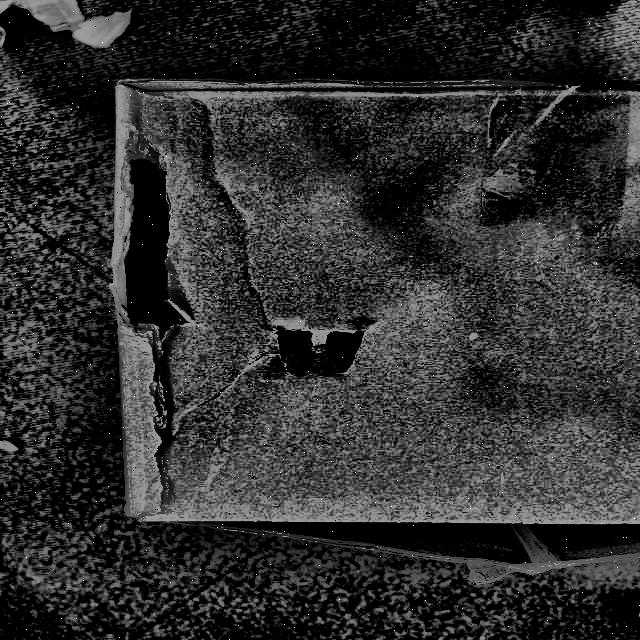box: (105, 82, 640, 572)
hole: (121, 154, 191, 341), (256, 303, 372, 396)
